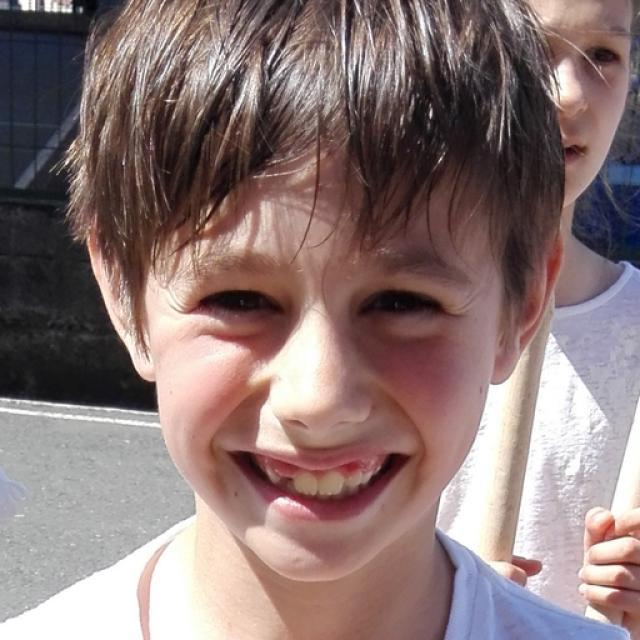happy: (151, 116, 499, 582), (499, 0, 637, 212)
